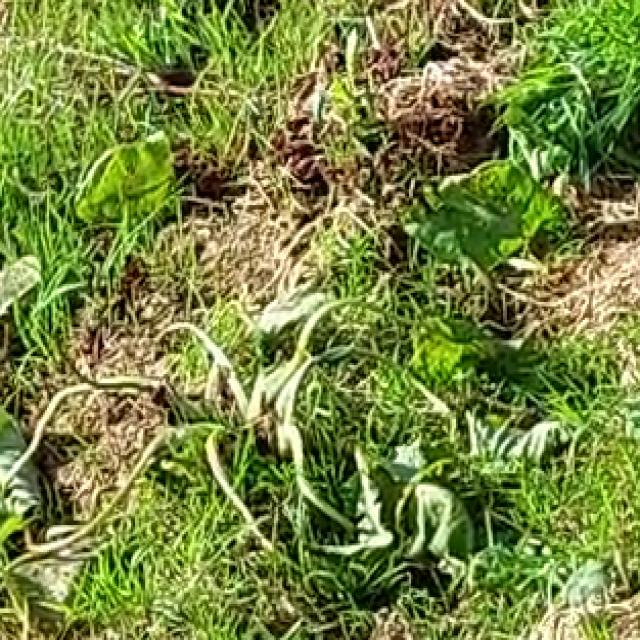organic waste: (0, 113, 595, 613)
